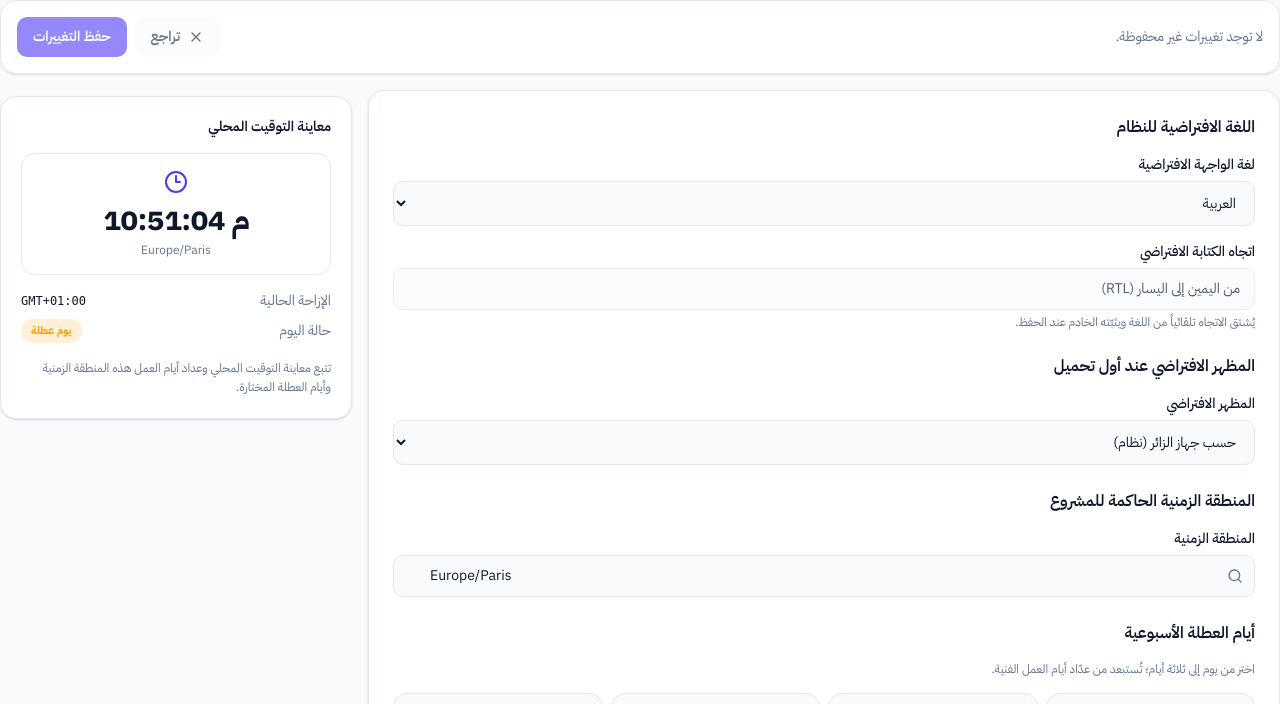
Test: LocalizationSettings › keeps save disabled until the draft is dirty, then opens the confirm dialog with a diff summary
The width and height of the screenshot is (1280, 704).
Expected: the button "حفظ التغييرات" is disabled, [17, 17, 126, 57]
Select "داكن" in the dropdown labelled "المظهر الافتراضي". click: (824, 442)
box: [393, 420, 1255, 465]
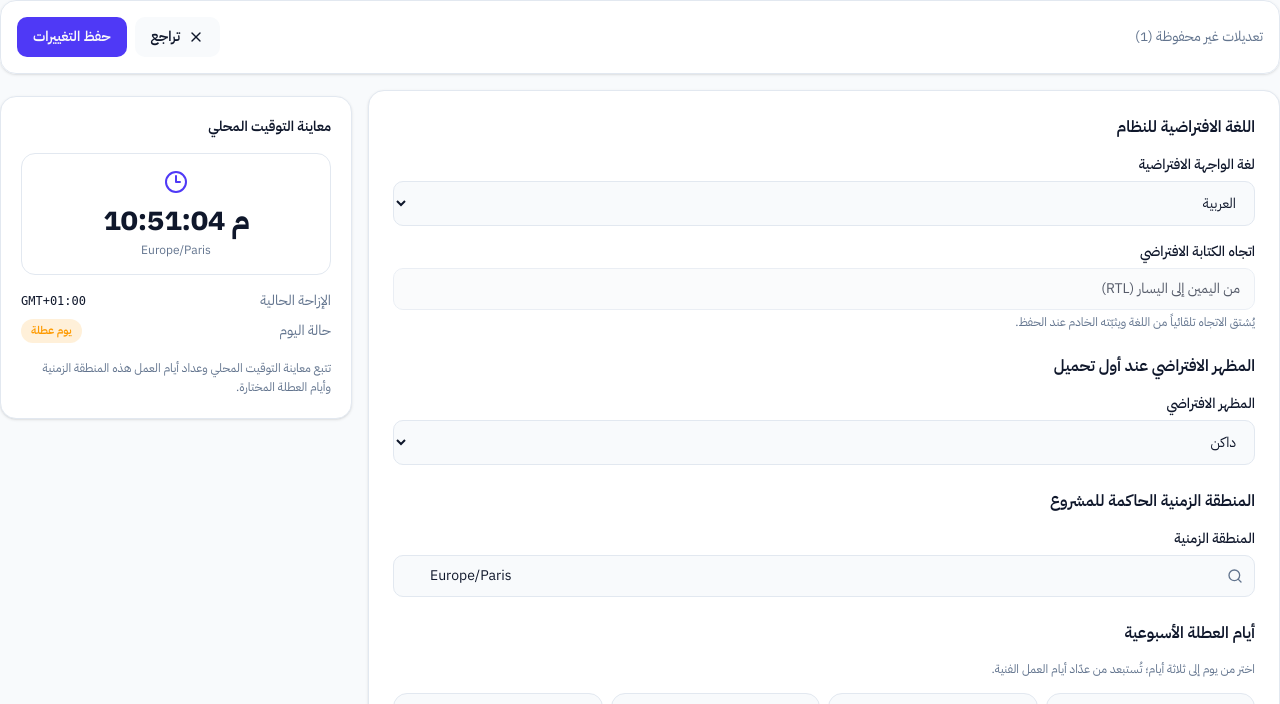
Now the button "حفظ التغييرات" is enabled
Click the button "حفظ التغييرات". click: (72, 37)
box: [17, 17, 126, 57]
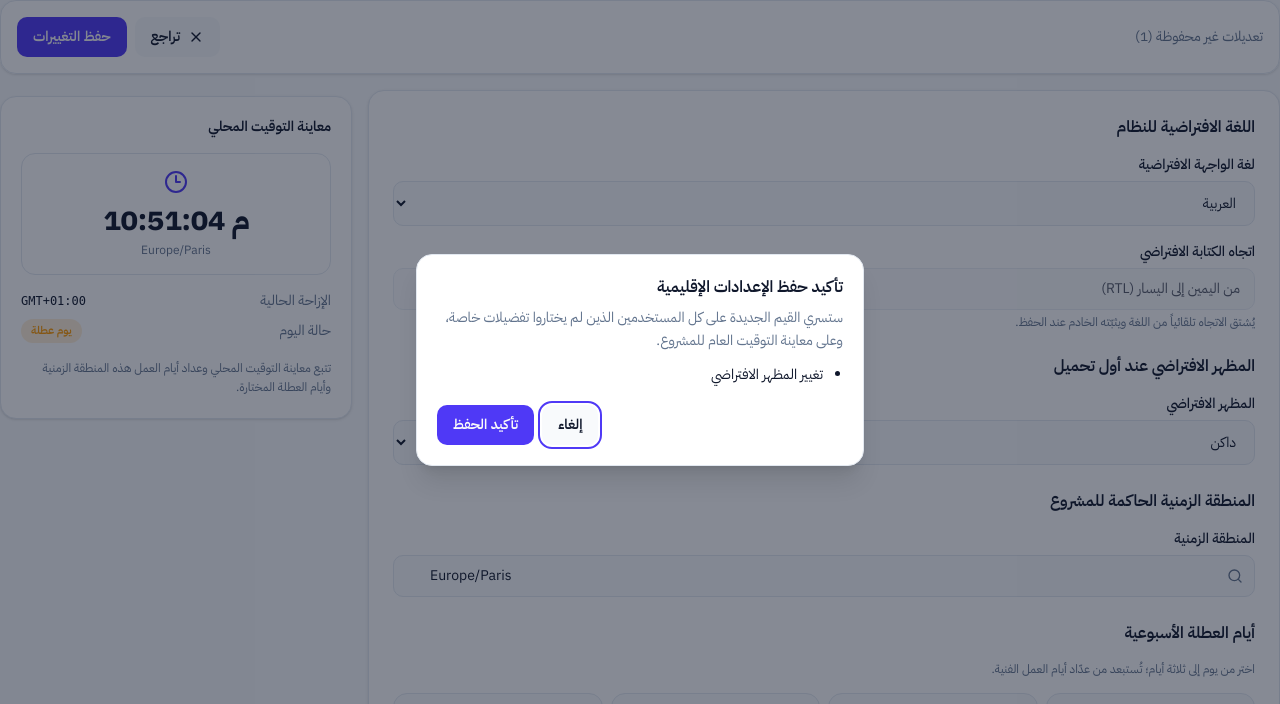
Now the dialog "تأكيد حفظ الإعدادات الإقليمية" is shown, box [416, 254, 864, 466]
Now the list item "تغيير المظهر الافتراضي" is shown, box [711, 364, 823, 385]
